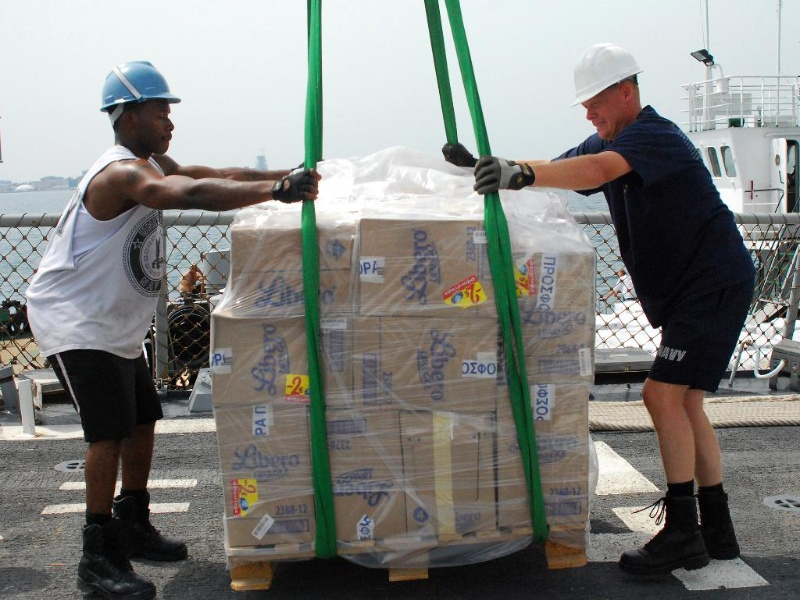helmet: (571, 42, 642, 102), (98, 57, 185, 104)
